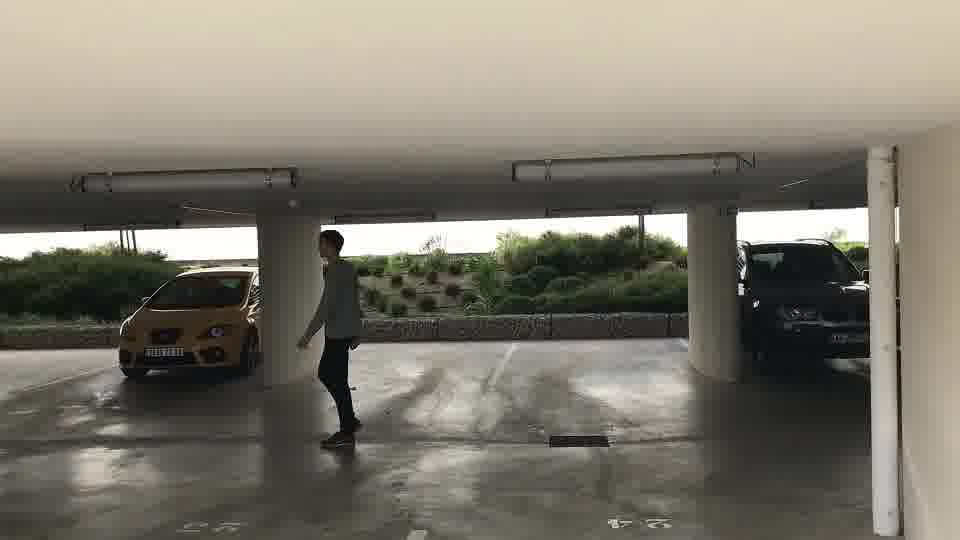jugador: (281, 226, 377, 454)
